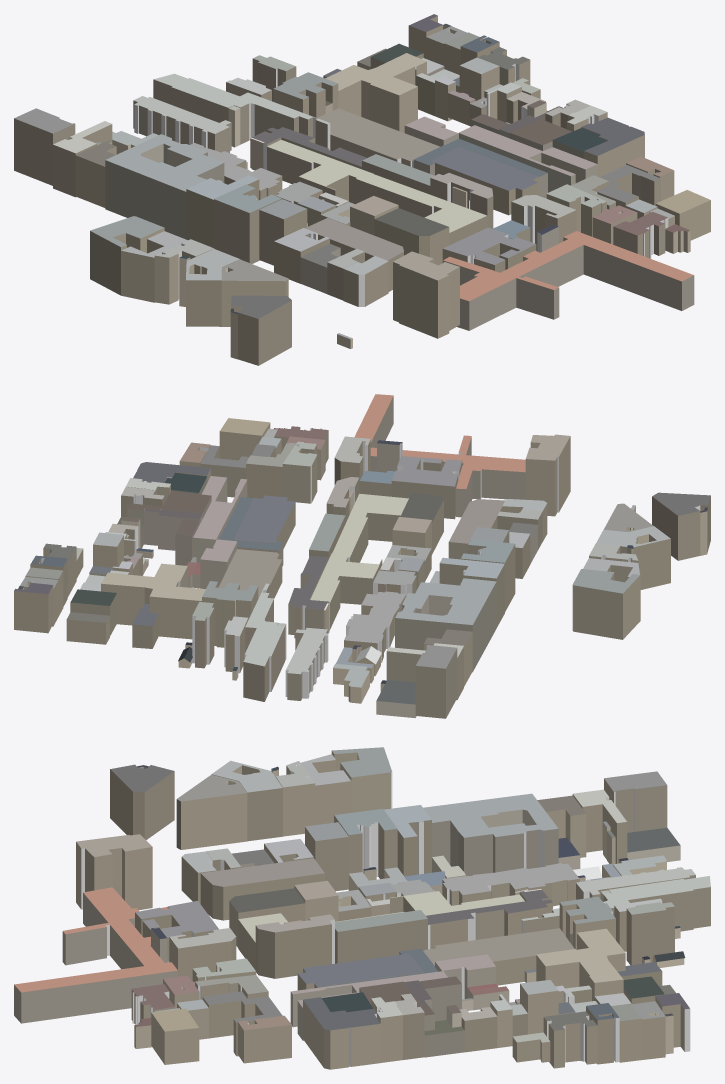
3 views of the same model, one above another, from view 1: azimuth 30°, elevation 25°; view 2: azimuth 150°, elevation 25°; view 3: azimuth 270°, elevation 25° (orthographic). The views are drawn at different scales.
Visible parts, largest first — view 1: tuile; view 2: tuile; view 3: tuile.
Part boxes in pixels (left/top/right/bottom): tuile: left=14, top=14, right=710, bottom=365; tuile: left=14, top=394, right=710, bottom=718; tuile: left=14, top=747, right=710, bottom=1069.
Size of the model in its own units: 275 by 30.7 by 299.
